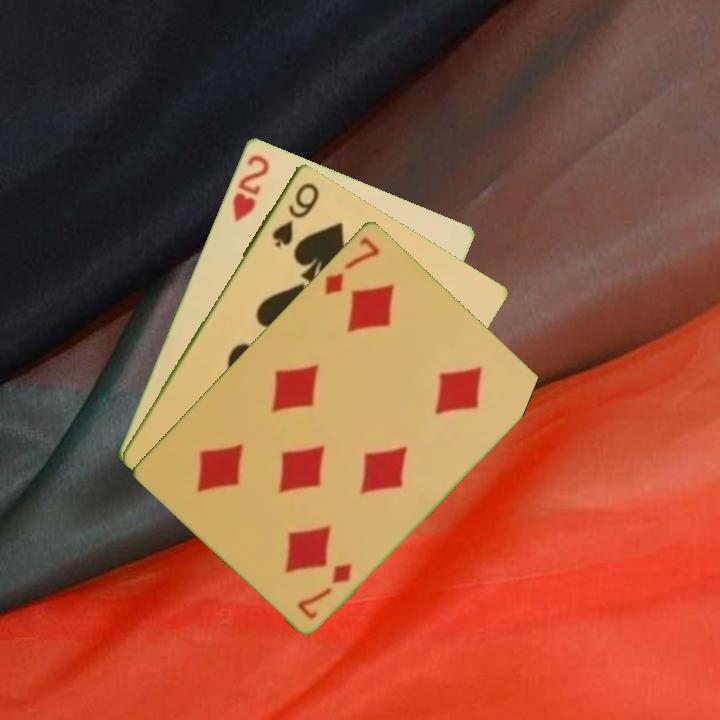2h: (228, 150, 272, 224)
7d: (321, 232, 383, 297), (293, 559, 355, 622)
9s: (268, 178, 322, 250)
